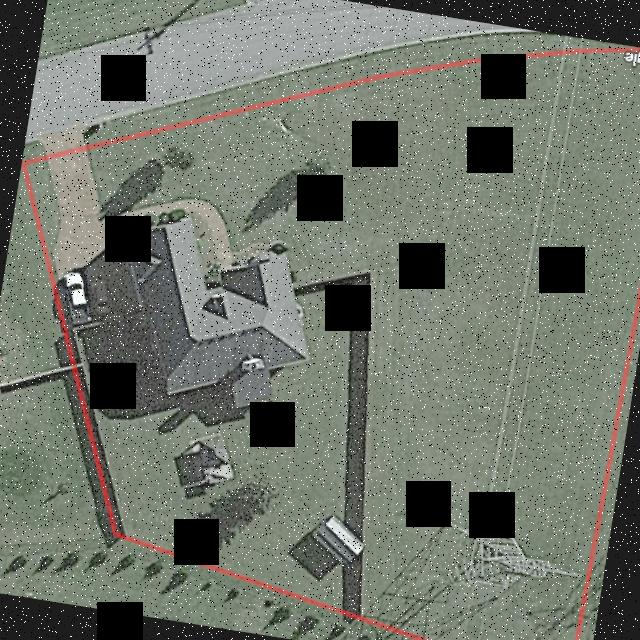Driveway: (48, 151, 230, 322)
Extra Driveway: (35, 126, 83, 152)
Extra Lawn: (81, 31, 633, 143), (21, 141, 44, 159)
House: (121, 216, 306, 407)
Other: (173, 433, 232, 498), (310, 515, 363, 562)
